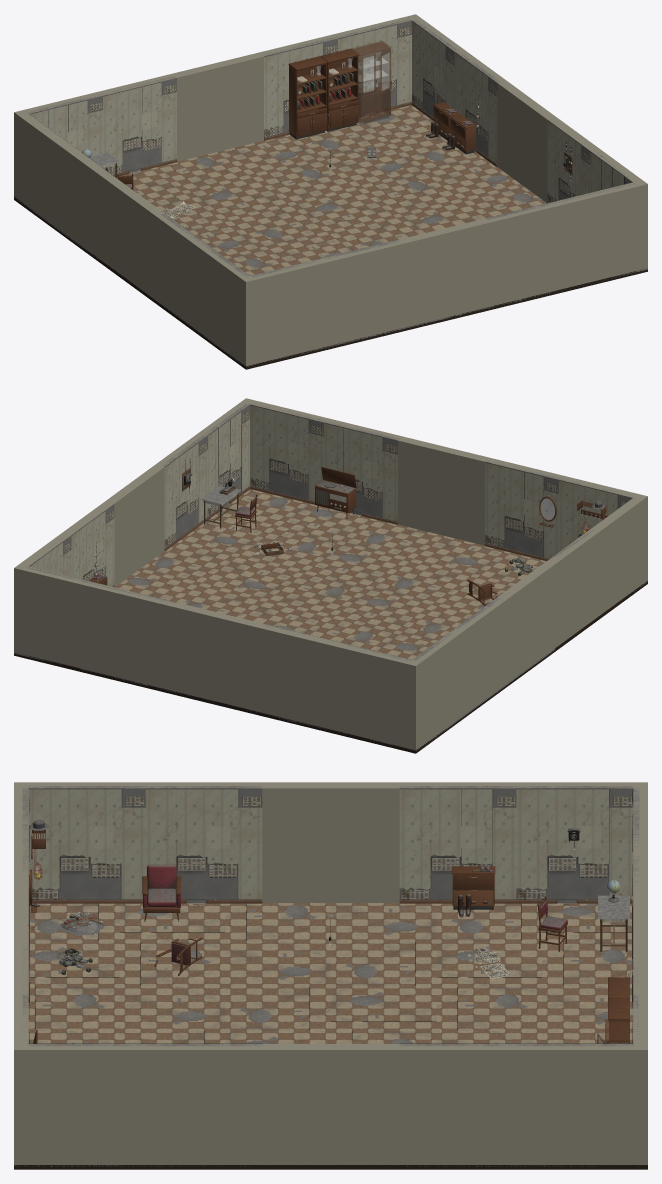
File: room_office_decorated.glb
The picture shows the model from 3 angles, top to bottom: view 1: azimuth 30°, elevation 25°; view 2: azimuth 150°, elevation 25°; view 3: azimuth 270°, elevation 25°; orthographic projection. The views are drawn at different scales.
Visible parts, largest first — view 1: Wall_S_A, Wall_S_B, Wall_W_B, Wall_W_A, Plug_S, Plug_N, NoCol_Wallpaper_N1, NoCol_Wallpaper_N3, Plug_W, Plug_E, NoCol_Wallpaper_E3, NoCol_Wallpaper_E2 (+38 smaller); view 2: Wall_N_A, Wall_N_B, Wall_W_A, Wall_W_B, Plug_N, Plug_S, NoCol_Wallpaper_S3, NoCol_Wallpaper_S1, NoCol_Wallpaper_S2, Plug_W, Plug_E, NoCol_Wallpaper_E1 (+35 smaller); view 3: Wall_E_B, Wall_E_A, Plug_E, Plug_W, NoCol_Wallpaper_W3, NoCol_Wallpaper_W0, NoCol_Wallpaper_W1, NoCol_Wallpaper_W2, NoCol_FloorTile_13, NoCol_FloorTile_12, NoCol_FloorTile_21, NoCol_FloorTile_24 (+43 smaller).
Part boxes in pixels (left/top/right/bottom): Wall_S_A: left=240, top=240, right=403, bottom=365; Wall_S_B: left=487, top=180, right=647, bottom=306; Wall_W_B: left=19, top=114, right=113, bottom=262; Wall_W_A: left=155, top=214, right=245, bottom=361; Plug_S: left=403, top=233, right=490, bottom=327; Plug_N: left=177, top=67, right=263, bottom=161; NoCol_Wallpaper_N1: left=101, top=76, right=176, bottom=174; NoCol_Wallpaper_N3: left=336, top=19, right=411, bottom=115; Plug_W: left=105, top=189, right=155, bottom=299; Plug_E: left=497, top=93, right=547, bottom=202; NoCol_Wallpaper_E3: left=411, top=19, right=458, bottom=117; NoCol_Wallpaper_E2: left=454, top=51, right=500, bottom=163; Wall_N_A: left=258, top=624, right=421, bottom=749; Wall_N_B: left=14, top=564, right=175, bottom=690; Wall_W_A: left=548, top=498, right=642, bottom=646; Wall_W_B: left=413, top=598, right=506, bottom=745; Plug_N: left=171, top=617, right=258, bottom=711; Plug_S: left=398, top=451, right=484, bottom=545; NoCol_Wallpaper_S3: left=250, top=403, right=325, bottom=501; NoCol_Wallpaper_S1: left=485, top=460, right=560, bottom=558; NoCol_Wallpaper_S2: left=324, top=421, right=399, bottom=521; Plug_W: left=506, top=573, right=556, bottom=683; Plug_E: left=114, top=477, right=164, bottom=586; NoCol_Wallpaper_E1: left=162, top=435, right=207, bottom=547; Wall_E_B: left=399, top=1044, right=633, bottom=1164; Wall_E_A: left=28, top=1044, right=262, bottom=1164; Plug_E: left=262, top=1064, right=399, bottom=1164; Plug_W: left=262, top=802, right=399, bottom=902; NoCol_Wallpaper_W3: left=516, top=786, right=633, bottom=903; NoCol_Wallpaper_W0: left=28, top=786, right=145, bottom=899; NoCol_Wallpaper_W1: left=145, top=786, right=262, bottom=903; NoCol_Wallpaper_W2: left=399, top=786, right=516, bottom=899; NoCol_FloorTile_13: left=331, top=941, right=436, bottom=986; NoCol_FloorTile_12: left=225, top=941, right=330, bottom=986; NoCol_FloorTile_21: left=119, top=986, right=225, bottom=1030; NoCol_FloorTile_24: left=436, top=986, right=542, bottom=1030.
Size of the model in its own units: 12 by 2.5 by 12.
34 materials, 24 textured.
